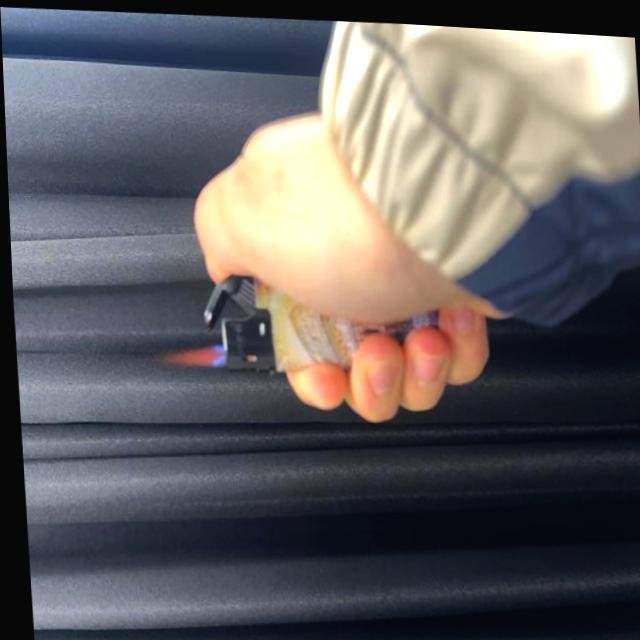Fire: (156, 337, 225, 364)
